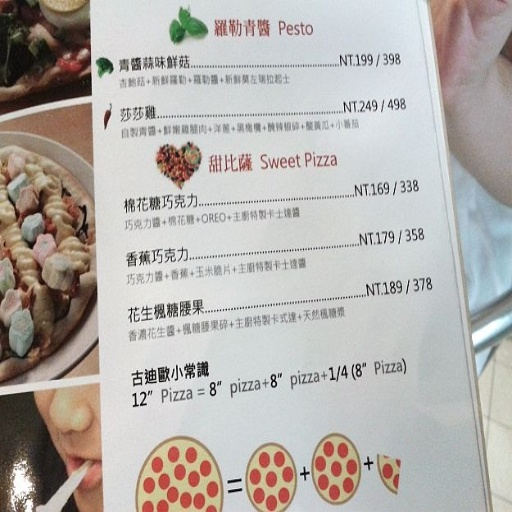hand: (427, 0, 511, 87)
